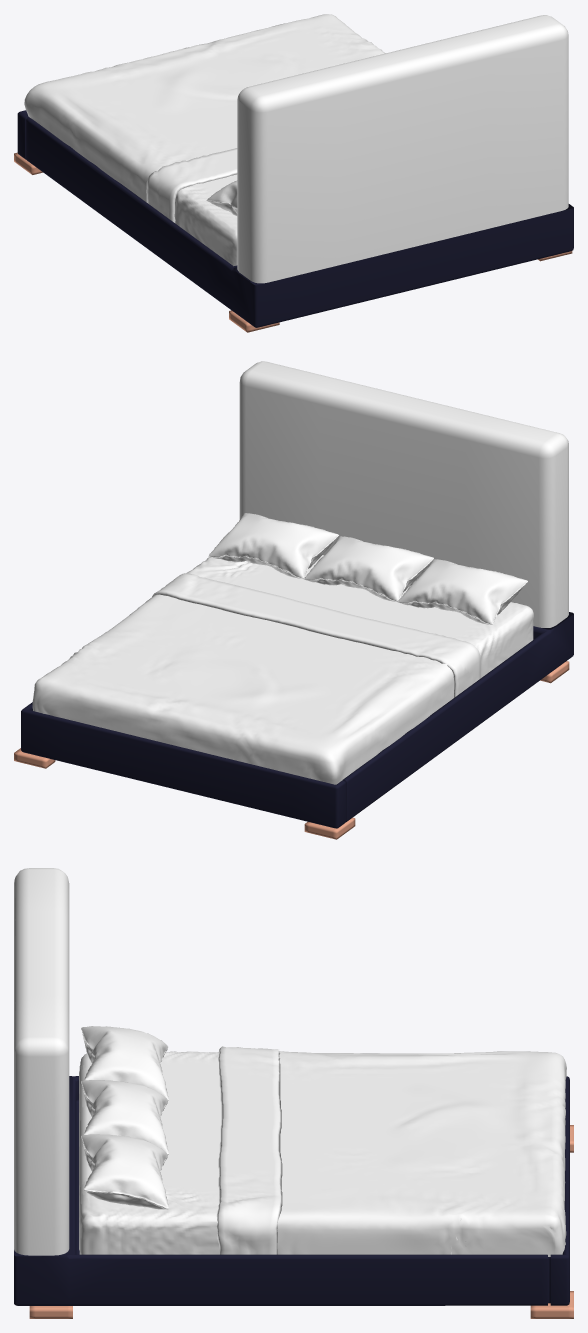
Rendered from furniture_1.glb.
3 renders of one model, top to bottom at view 1: azimuth 30°, elevation 25°; view 2: azimuth 150°, elevation 25°; view 3: azimuth 270°, elevation 25°, orthographic. The views are drawn at different scales.
Visible parts, largest first — view 1: GF_Cube.011, GF_Cube.008, GF_Cube.012, GF_Cube.010, GF_Cube.009, GF_Plane.015; view 2: GF_Cube.008, GF_Cube.011, GF_Cube.012, GF_Cube.010, GF_Plane.015, GF_Plane.016, GF_Plane.017, GF_Cube.009; view 3: GF_Cube.008, GF_Cube.012, GF_Cube.011, GF_Cube.010, GF_Plane.017, GF_Plane.016, GF_Plane.015, GF_Cube.009.
Part boxes in pixels (x1,y1,x2,y2): GF_Cube.011: (237, 15, 568, 283); GF_Cube.008: (24, 14, 385, 222); GF_Cube.012: (17, 110, 573, 327); GF_Cube.010: (174, 174, 237, 266); GF_Cube.009: (14, 152, 572, 332); GF_Plane.015: (206, 180, 237, 215); GF_Cube.008: (32, 573, 480, 784); GF_Cube.011: (239, 361, 568, 627); GF_Cube.012: (21, 612, 573, 828); GF_Cube.010: (86, 555, 533, 677); GF_Plane.015: (397, 559, 527, 624); GF_Plane.016: (304, 536, 433, 601); GF_Plane.017: (208, 513, 338, 578); GF_Cube.009: (14, 661, 569, 839); GF_Cube.008: (216, 1046, 566, 1256); GF_Cube.012: (14, 1076, 569, 1305); GF_Cube.011: (14, 868, 69, 1255); GF_Cube.010: (79, 1051, 465, 1254); GF_Plane.017: (81, 1134, 168, 1209); GF_Plane.016: (81, 1080, 168, 1154); GF_Plane.015: (81, 1026, 168, 1100); GF_Cube.009: (29, 1125, 573, 1318).
Size of the model in its own units: 2.29 by 1.57 by 2.93.
